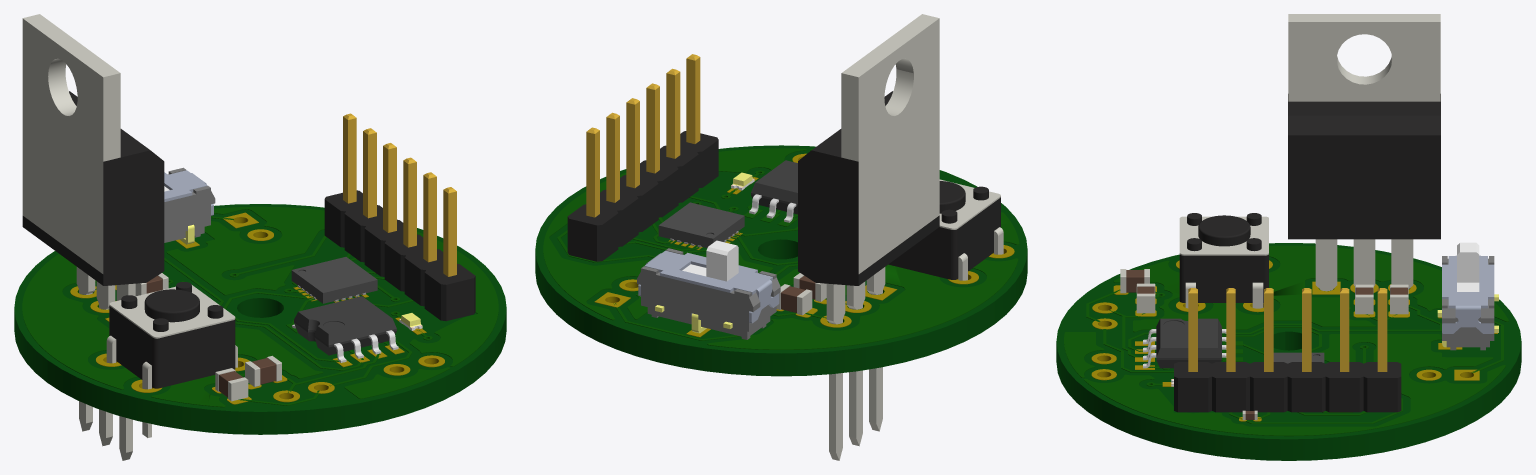
Rendered from PilotV3.glb.
The picture shows the model from 3 angles, left to right: view 1: azimuth 30°, elevation 25°; view 2: azimuth 150°, elevation 25°; view 3: azimuth 270°, elevation 25°; orthographic projection. The views are drawn at different scales.
Parts seen in each view (by area): view 1: Body1.001, Body1.046, Body1.022, Body1.044, Body1.189, Body1.187, Body1.092, Body1.048, Body7.002, Body1.191, Body8.002, Body1.094 (+1 smaller); view 2: Body1.046, Body1.001, Body1.022, Body1.187, Body1.044, Body1.189, Body7.002, Body8.002, Body1.048, Body1.092, Body1.026, Body1.024; view 3: Body1.046, Body1.001, Body1.022, Body1.189, Body1.187, Body1.044, Body8.002, Body1.092, Body7.002, Body1.191, Body1.094, Body1 (+2 smaller).
Boxes of the visible parts, left/top/right/bottom form: Body1.001: left=14, top=204, right=506, bottom=434; Body1.046: left=22, top=14, right=164, bottom=460; Body1.022: left=324, top=113, right=475, bottom=321; Body1.044: left=106, top=282, right=237, bottom=437; Body1.189: left=166, top=206, right=498, bottom=366; Body1.187: left=22, top=254, right=323, bottom=407; Body1.092: left=292, top=296, right=398, bottom=362; Body1.048: left=291, top=257, right=377, bottom=303; Body7.002: left=164, top=167, right=215, bottom=242; Body1.191: left=344, top=367, right=449, bottom=398; Body8.002: left=164, top=170, right=213, bottom=215; Body1.094: left=245, top=355, right=281, bottom=386; Body1.046: left=798, top=14, right=939, bottom=460; Body1.001: left=535, top=145, right=1027, bottom=376; Body1.022: left=567, top=54, right=718, bottom=261; Body1.187: left=707, top=212, right=1019, bottom=349; Body1.044: left=888, top=179, right=1003, bottom=280; Body1.189: left=543, top=148, right=806, bottom=320; Body7.002: left=637, top=248, right=780, bottom=339; Body8.002: left=638, top=240, right=779, bottom=323; Body1.048: left=658, top=202, right=744, bottom=247; Body1.092: left=749, top=160, right=797, bottom=222; Body1.026: left=776, top=284, right=812, bottom=315; Body1.024: left=793, top=273, right=826, bottom=301; Body1.046: left=1288, top=14, right=1440, bottom=291; Body1.001: left=1056, top=243, right=1521, bottom=460; Body1.022: left=1174, top=288, right=1401, bottom=412; Body1.189: left=1084, top=334, right=1505, bottom=436; Body1.187: left=1113, top=245, right=1508, bottom=332; Body1.044: left=1179, top=213, right=1268, bottom=308; Body8.002: left=1442, top=242, right=1494, bottom=333; Body1.092: left=1143, top=318, right=1226, bottom=368; Body7.002: left=1442, top=256, right=1494, bottom=350; Body1.191: left=1064, top=332, right=1104, bottom=377; Body1.094: left=1136, top=283, right=1155, bottom=313; Body1: left=1120, top=269, right=1149, bottom=293.
Size of the model in its own units: 31.18 by 28.53 by 31.18.
